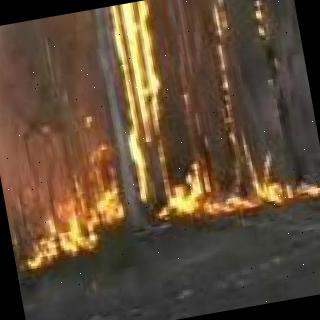fire: (115, 0, 199, 222), (0, 150, 123, 268), (222, 133, 320, 215)
